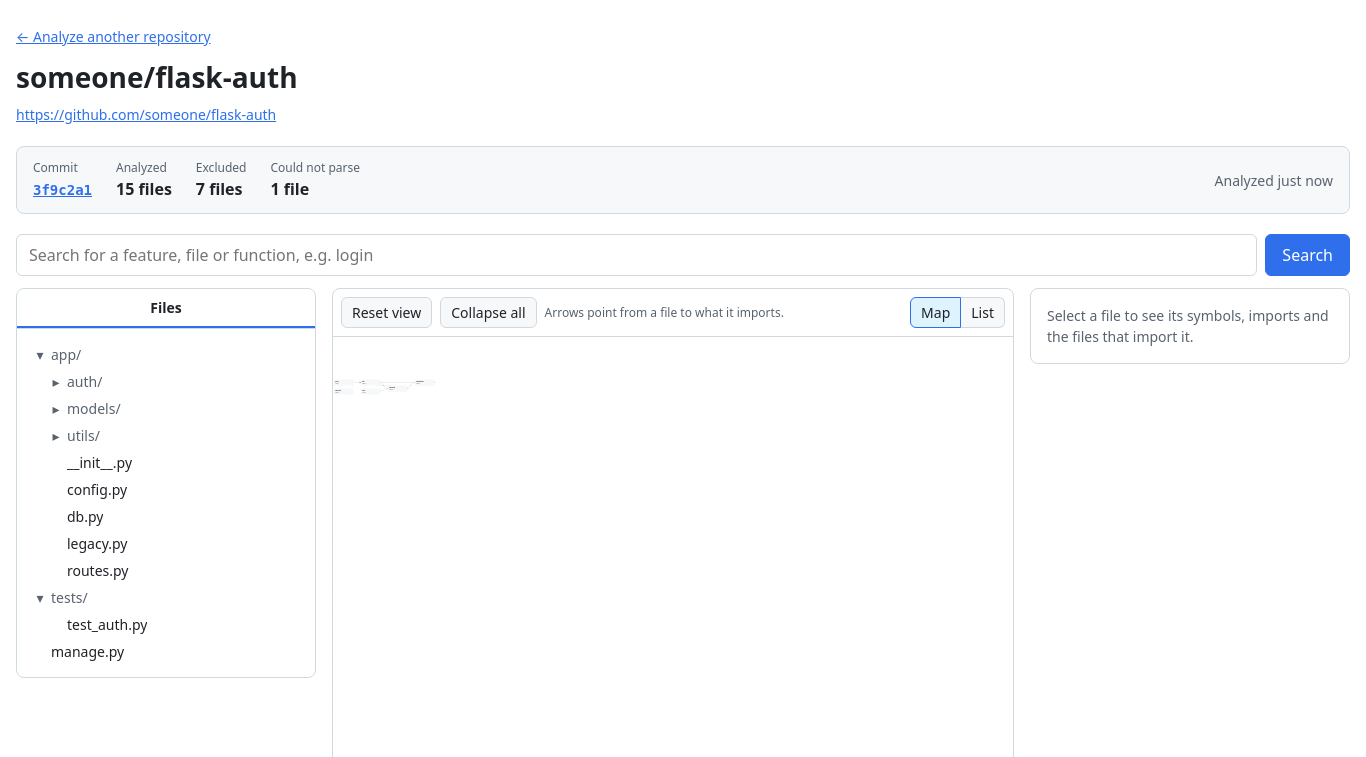
AnalysisPage map › expands the module of a file selected in the explorer
Click the list item "db.py" at (85, 516), box [67,507,104,526]
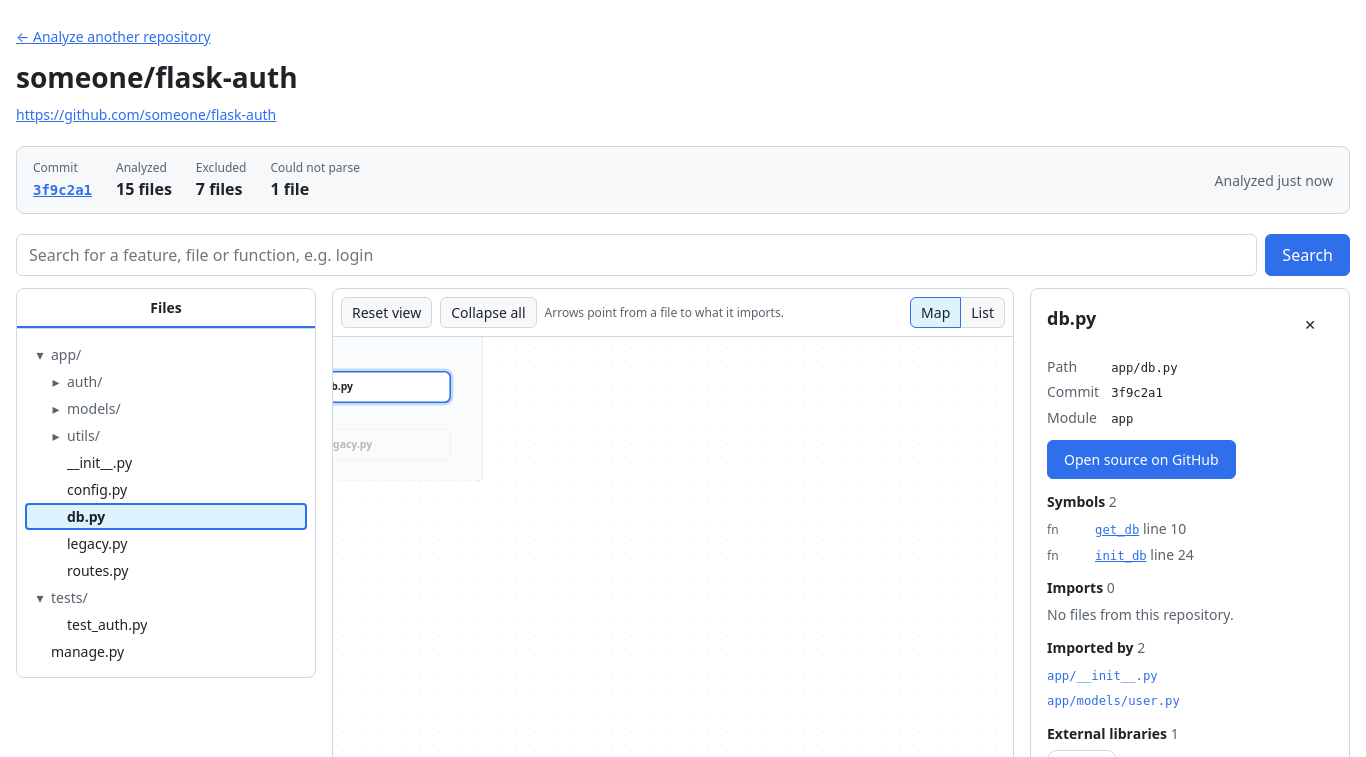
Expected: the button with aria-label "File app/db.py" is shown, [333,373,449,401]
